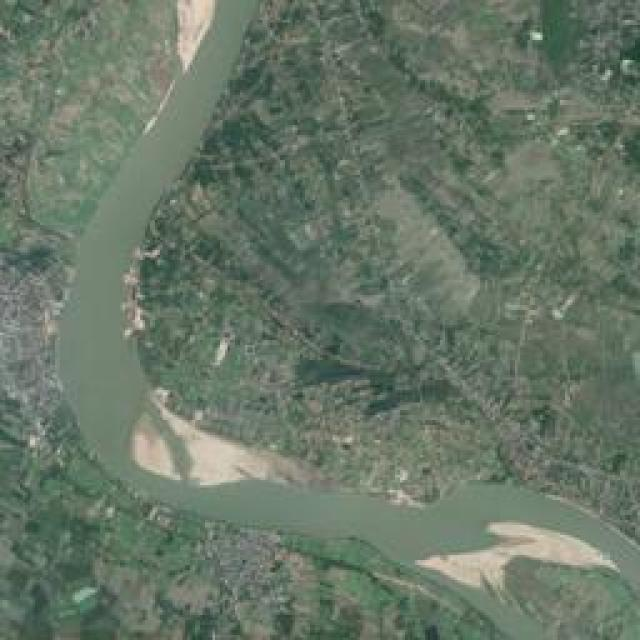Grassland: (0, 0, 638, 638)
River: (57, 2, 635, 640)
